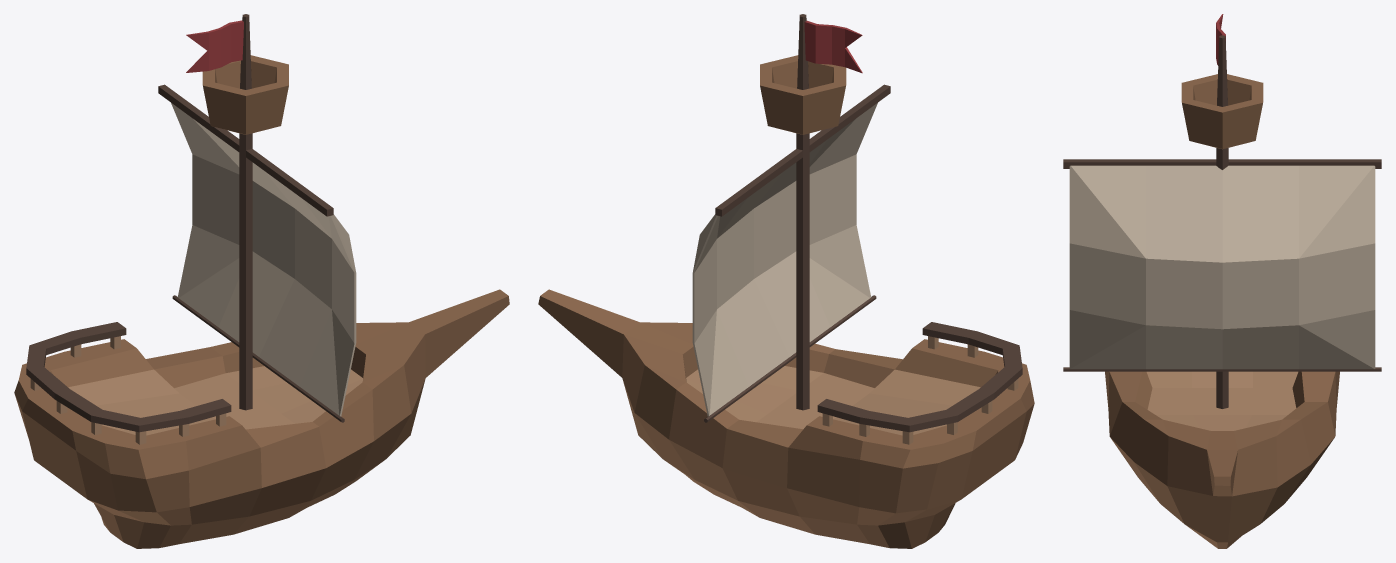
File: Ship.fbx
3 renders of one model, left to right at view 1: azimuth 30°, elevation 25°; view 2: azimuth 150°, elevation 25°; view 3: azimuth 270°, elevation 25°, orthographic. The views are drawn at different scales.
Visible parts, largest first — view 1: Ship; view 2: Ship; view 3: Ship.
Boxes of the visible parts, x1,y1,x2,y2 form: Ship: (14,14,509,548); Ship: (538,14,1034,548); Ship: (1063,14,1381,548).
Bounding box in the file's own units: 463 × 475 × 296.
